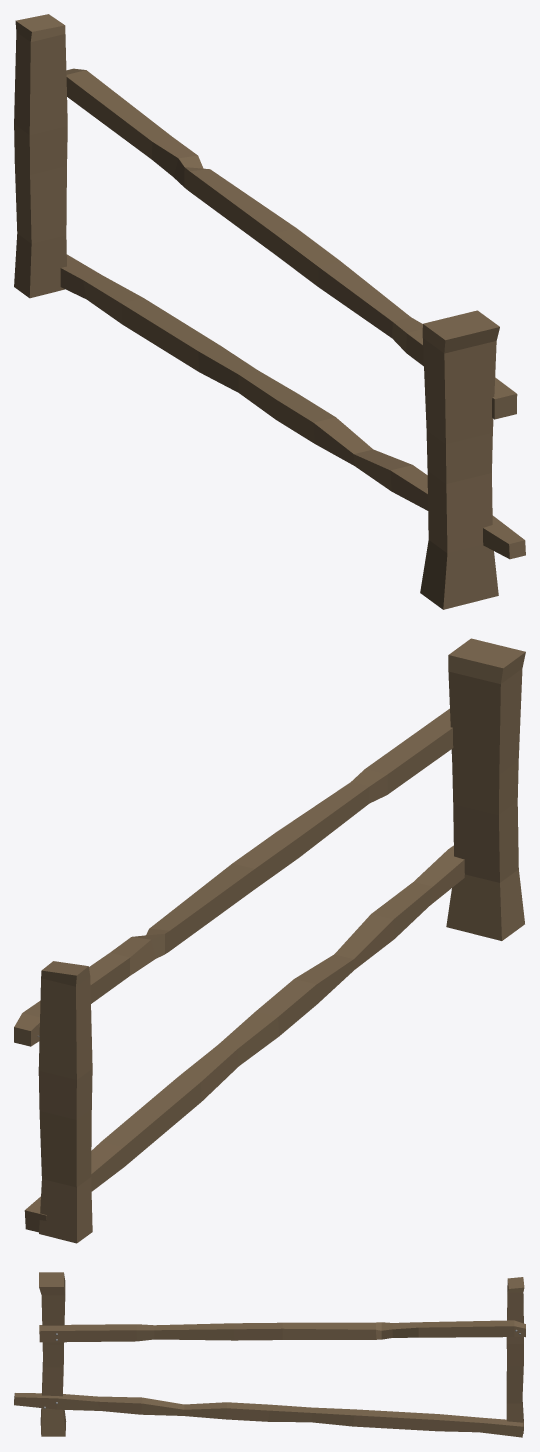
File: Fance_4.fbx
3 views of the same model, one above another, from view 1: azimuth 30°, elevation 25°; view 2: azimuth 150°, elevation 25°; view 3: azimuth 270°, elevation 25° (orthographic). The views are drawn at different scales.
Parts seen in each view (by area): view 1: fance_4; view 2: fance_4; view 3: fance_4.
Boxes of the visible parts, x1,y1,x2,y2 form: fance_4: [14, 14, 525, 609]; fance_4: [14, 638, 525, 1243]; fance_4: [14, 1272, 525, 1437].
Bounding box in the file's own units: 23.42 × 79.58 × 247.
